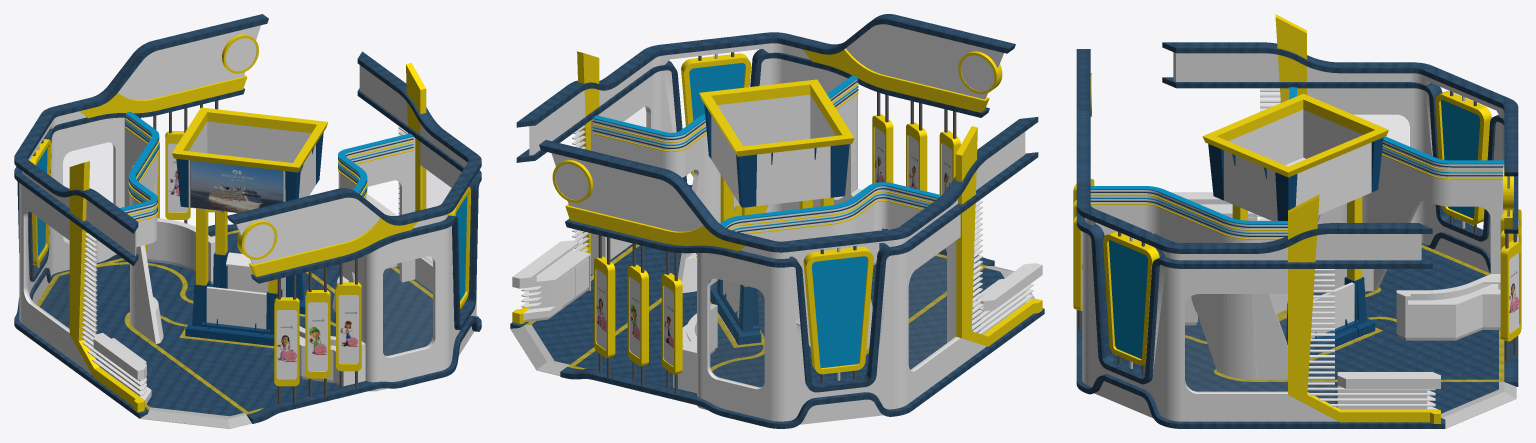
The model's file is exhibitionstand.glb.
3 renders of one model, left to right at view 1: azimuth 30°, elevation 25°; view 2: azimuth 150°, elevation 25°; view 3: azimuth 270°, elevation 25°, orthographic. The views are drawn at different scales.
Visible parts, largest first — view 1: exhibitionstand; view 2: exhibitionstand; view 3: exhibitionstand.
Boxes of the visible parts, left/top/right/bottom form: exhibitionstand: left=14, top=14, right=481, bottom=428; exhibitionstand: left=510, top=14, right=1044, bottom=428; exhibitionstand: left=1073, top=14, right=1521, bottom=428.
Bounding box in the file's own units: 8 × 4.6 × 8.12.
28 materials, 26 textured.
